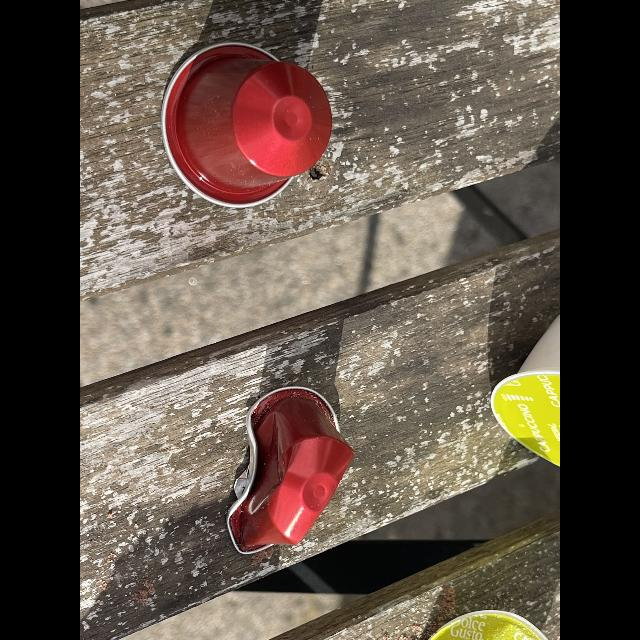damaged_capsule: (211, 386, 361, 574)
intact_capsule: (155, 34, 345, 238)
